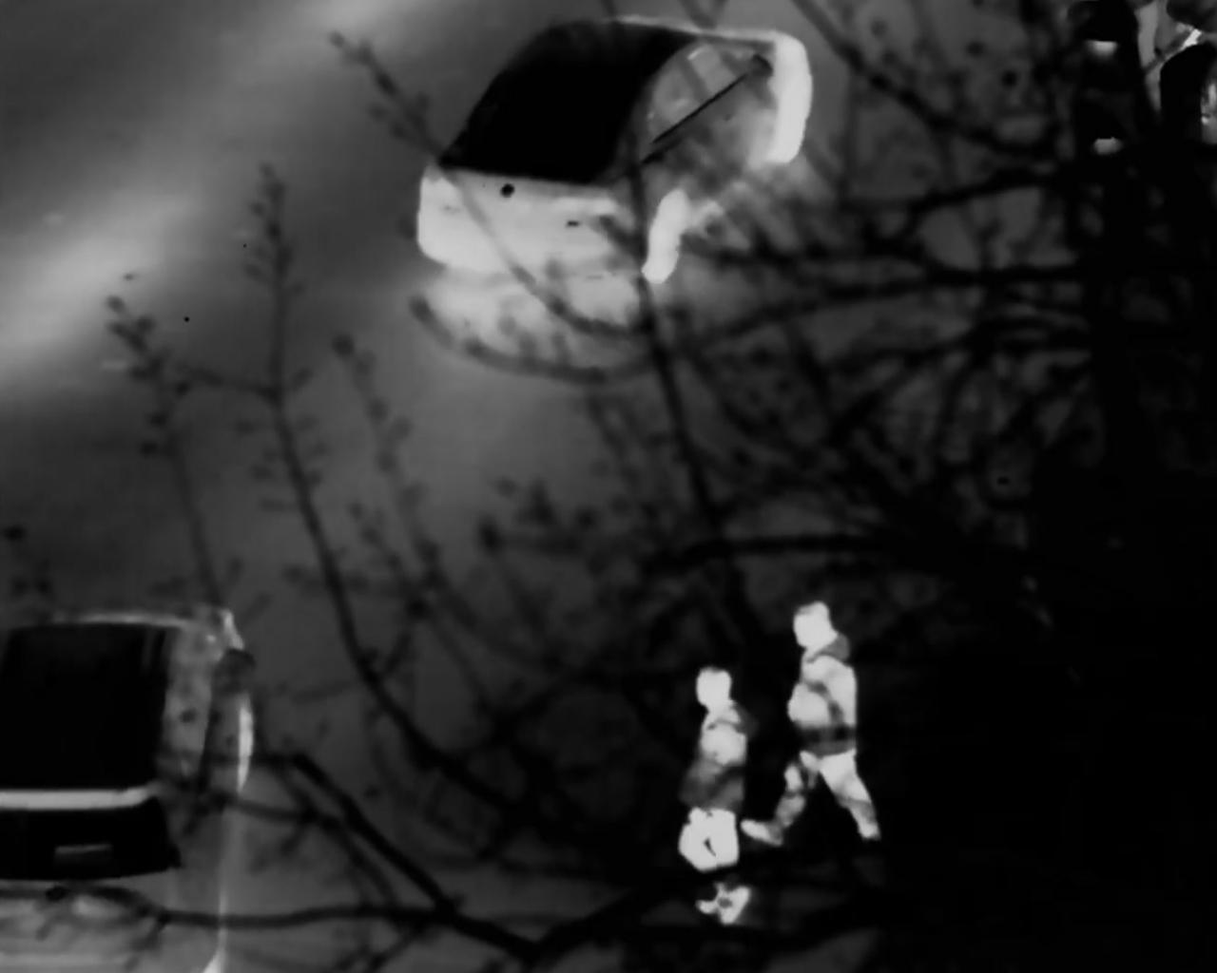person: (760, 600, 885, 844), (680, 664, 762, 909)
